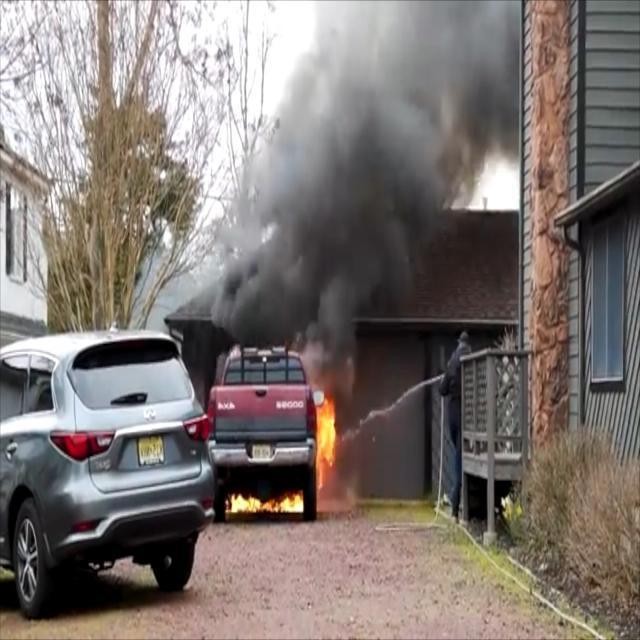fire: (309, 381, 344, 509), (228, 488, 311, 516)
